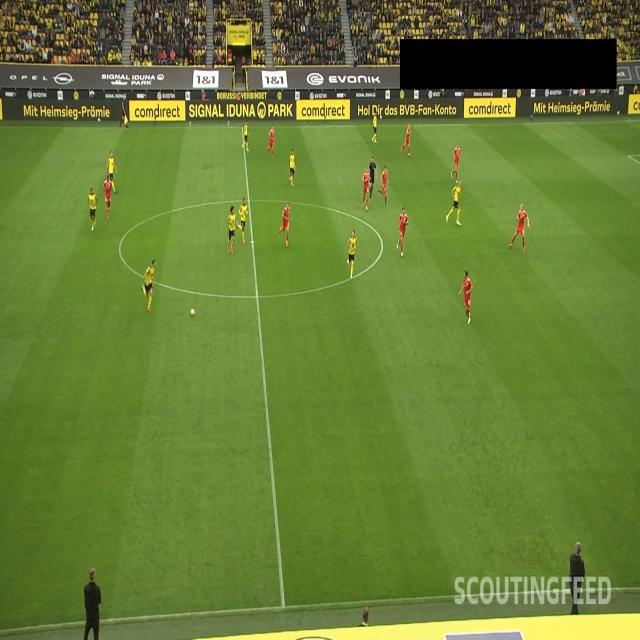ball: (189, 307, 196, 318)
